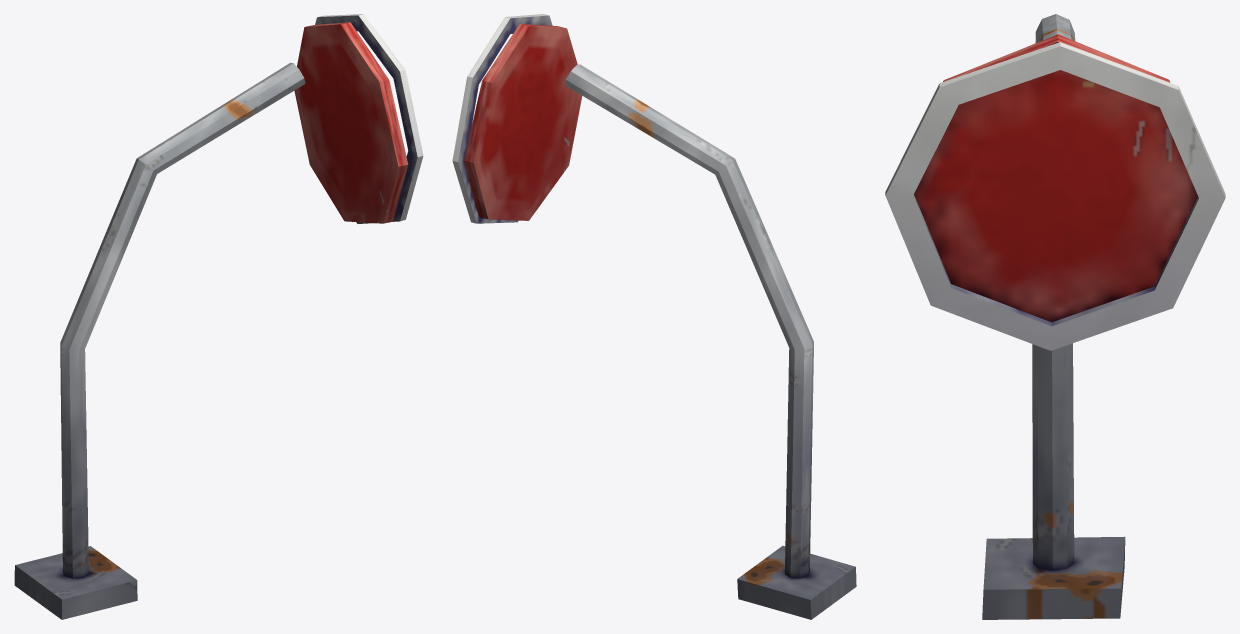
Rendered from SignBent.glb.
The picture shows the model from 3 angles, left to right: view 1: azimuth 30°, elevation 25°; view 2: azimuth 150°, elevation 25°; view 3: azimuth 270°, elevation 25°; orthographic projection. The views are drawn at different scales.
Parts seen in each view (by area): view 1: Pole, Face, Border; view 2: Pole, Face, Border; view 3: Face, Border, Pole.
Boxes of the visible parts, x1=… form: Pole: x1=14, y1=62, x2=305, y2=619; Face: x1=294, y1=22, x2=408, y2=223; Border: x1=315, y1=14, x2=423, y2=223; Pole: x1=565, y1=64, x2=856, y2=619; Face: x1=464, y1=24, x2=582, y2=220; Border: x1=452, y1=14, x2=552, y2=223; Face: x1=914, y1=34, x2=1197, y2=322; Border: x1=885, y1=42, x2=1225, y2=350; Pole: x1=982, y1=14, x2=1125, y2=619.
Bounding box in the file's own units: 1.72 × 2.53 × 1.03.
Materials: 3 (3 with a texture image).
